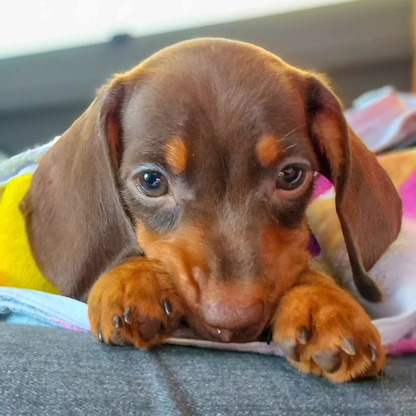dachshund: (32, 43, 408, 397)
